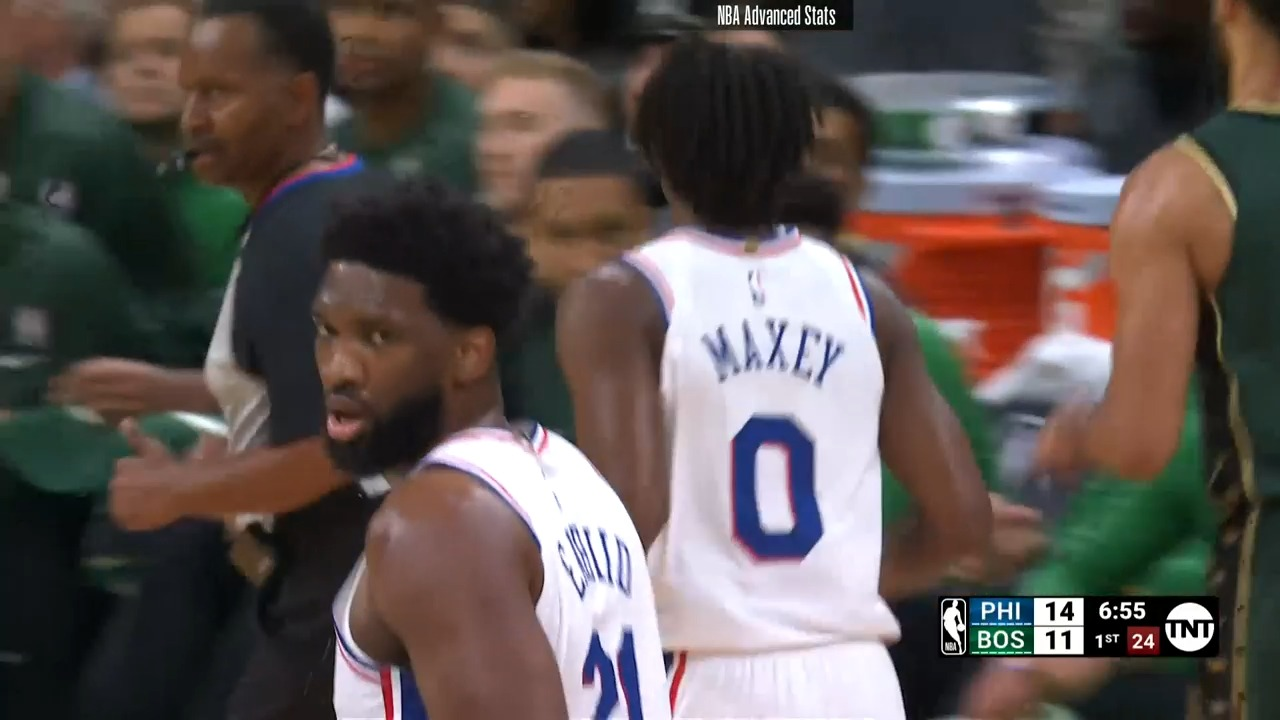player: (553, 27, 998, 720), (305, 168, 672, 720), (1035, 0, 1279, 720)
referee: (43, 0, 357, 713)
